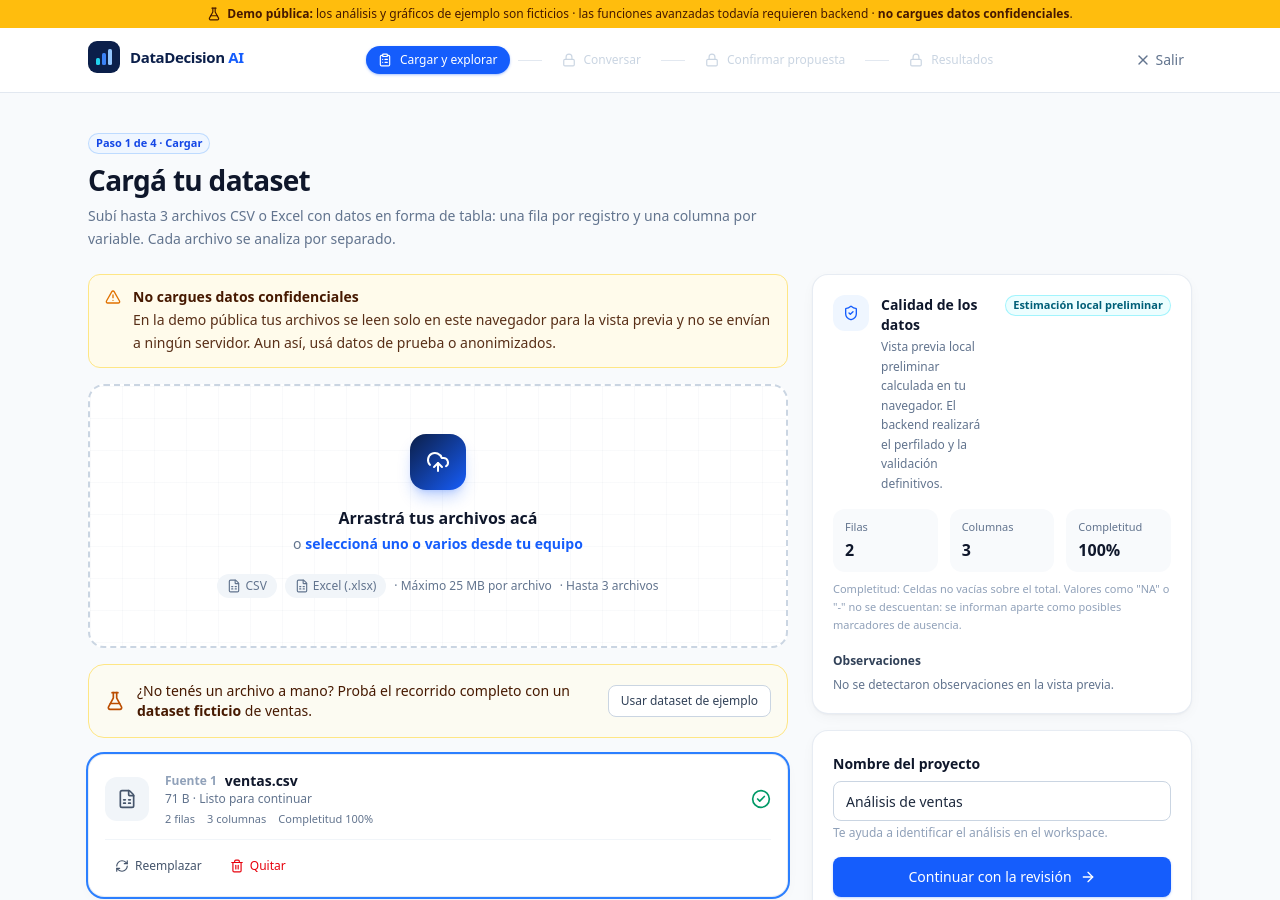
Test: flujo simplificado: el objetivo se cuenta una sola vez › el asistente saluda con la estructura de los datos y el primer mensaje pasa a ser el objetivo
The image size is (1280, 900).
Earlier steps of the test are not shown.
Expected: the number of icons named "Archivo listo" is 1, 751,789 -> 771,809
Click the button "Continuar con la revisión" at x=1002, y=878, box 833,858 -> 1171,898
(page scrolled)
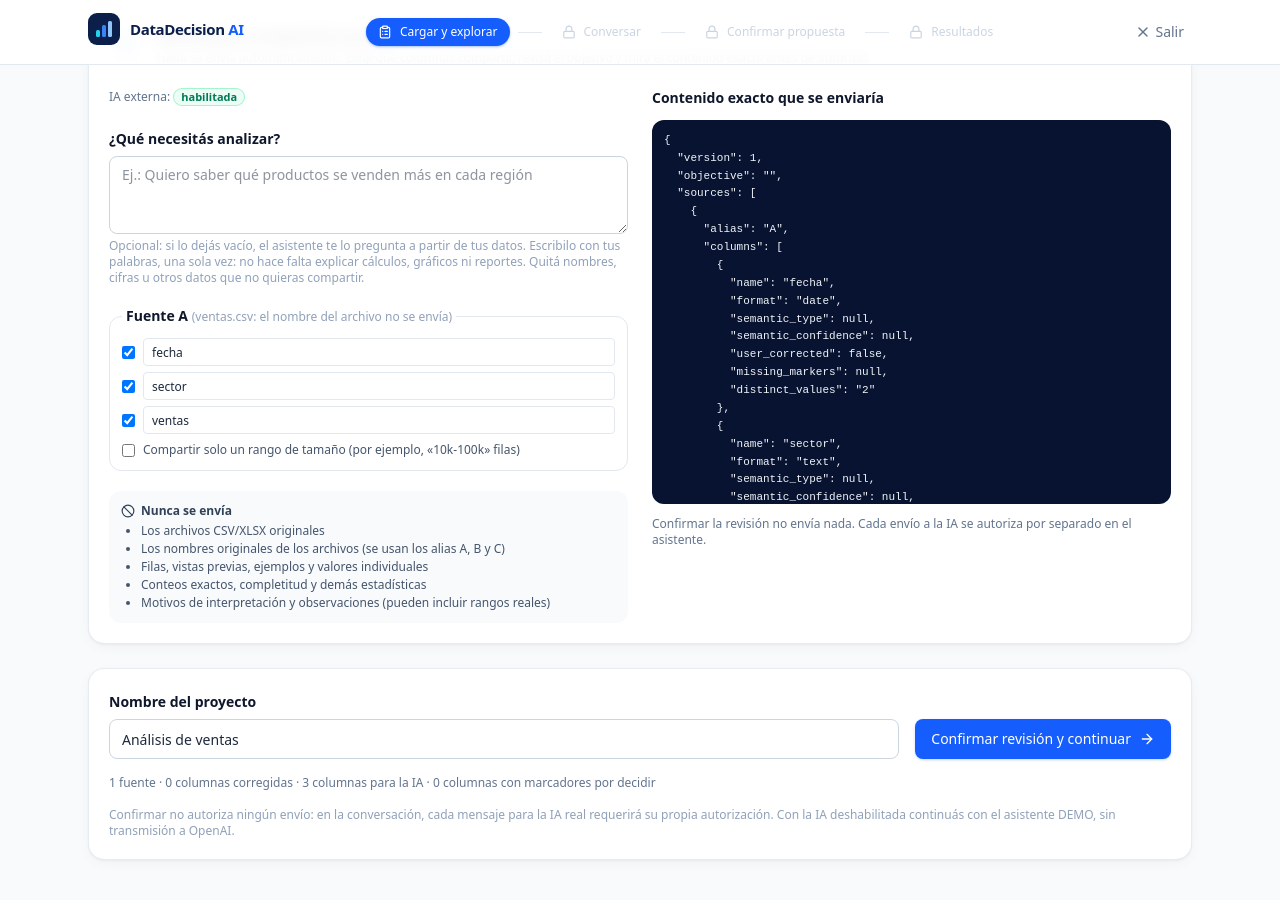
Click the button "Confirmar revisión y continuar" at x=1043, y=740, box 915,720 -> 1171,760
(page scrolled)
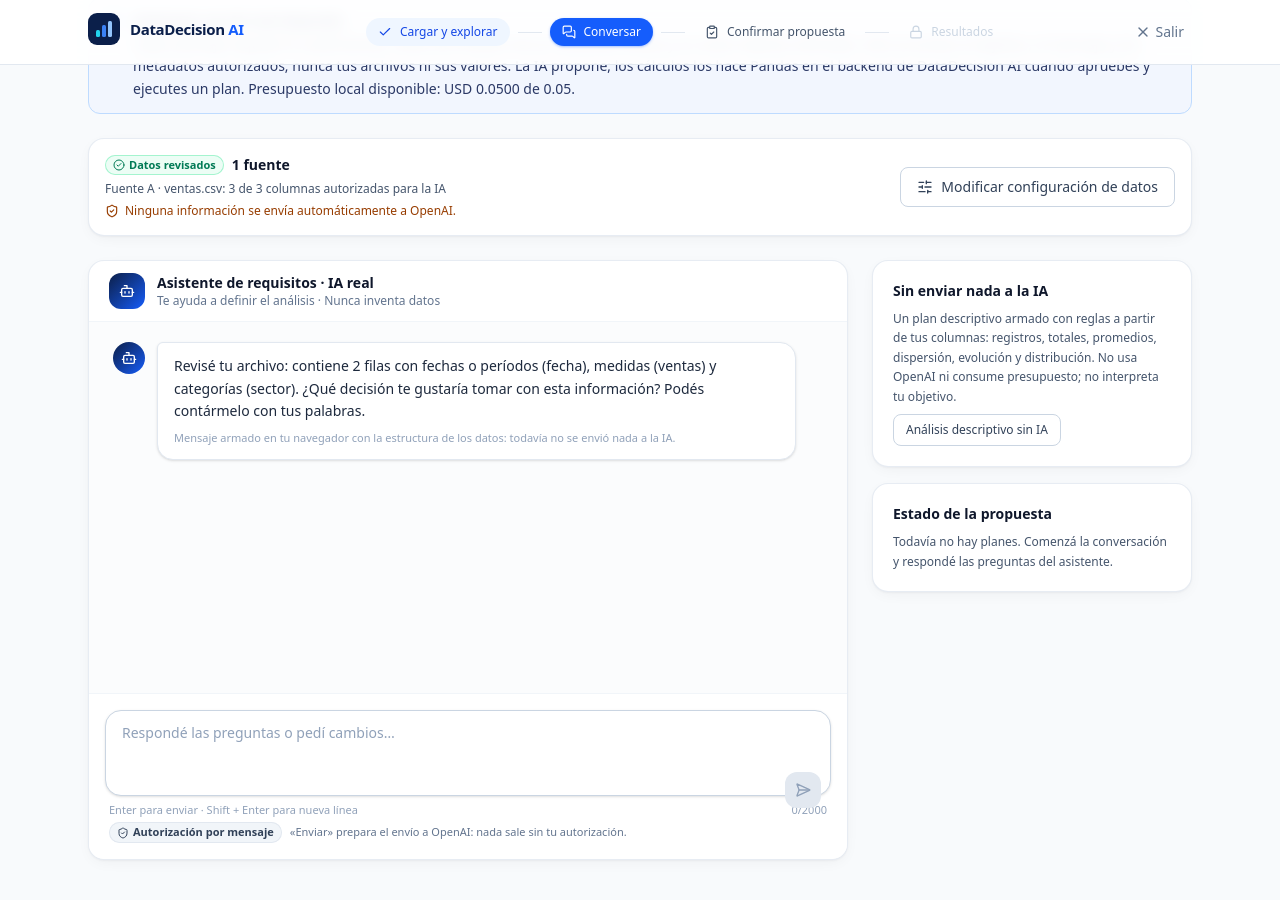
Result: the element named "Saludo del asistente" shows "Revisé tu archivo: contiene 2 filas con fechas o períodos (fecha)" at 174,356 -> 716,420
Result: the element named "Saludo del asistente" shows "¿Qué decisión te gustaría tomar con esta información?" at 174,356 -> 716,420
Result: the element named "Saludo del asistente" shows "todavía no se envió nada a la IA" at 174,430 -> 676,445
Type "Quiero saber qué sector conviene reforzar" into the text box named "Mensaje" at x=468, y=753, box 105,710 -> 831,796
Then press Enter
(page scrolled)
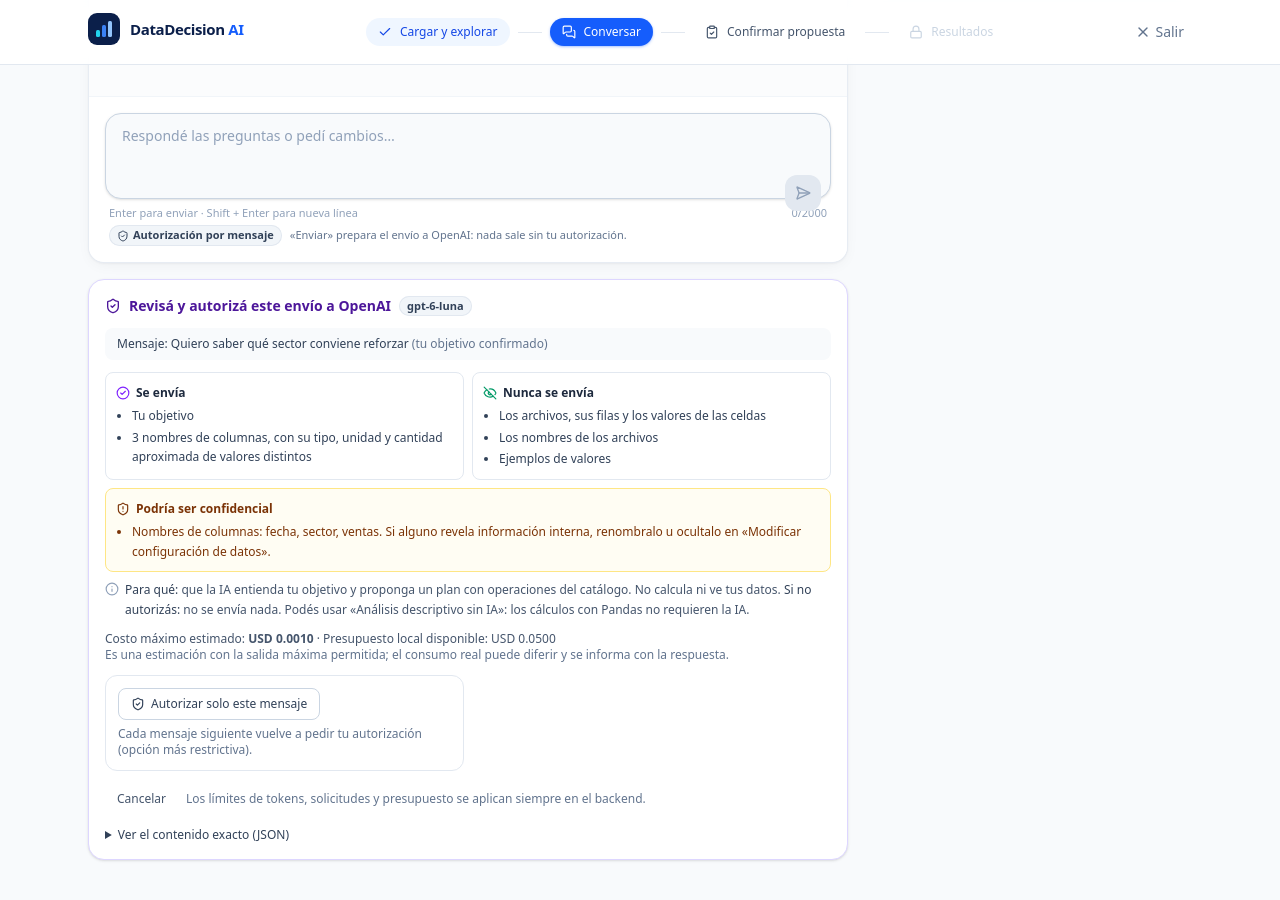
Result: the element named "Resumen del envío" shows "Nunca se envía" at 503,384 -> 594,401
Result: the element named "Resumen del envío" shows "Los archivos, sus filas y los valores de las celdas" at 499,407 -> 766,424
Result: the element named "Resumen del envío" shows "Nombres de columnas: fecha, sector, ventas" at 132,523 -> 801,560
Click the button "Autorizar solo este mensaje" at x=219, y=704, box 118,688 -> 320,720
(page scrolled)
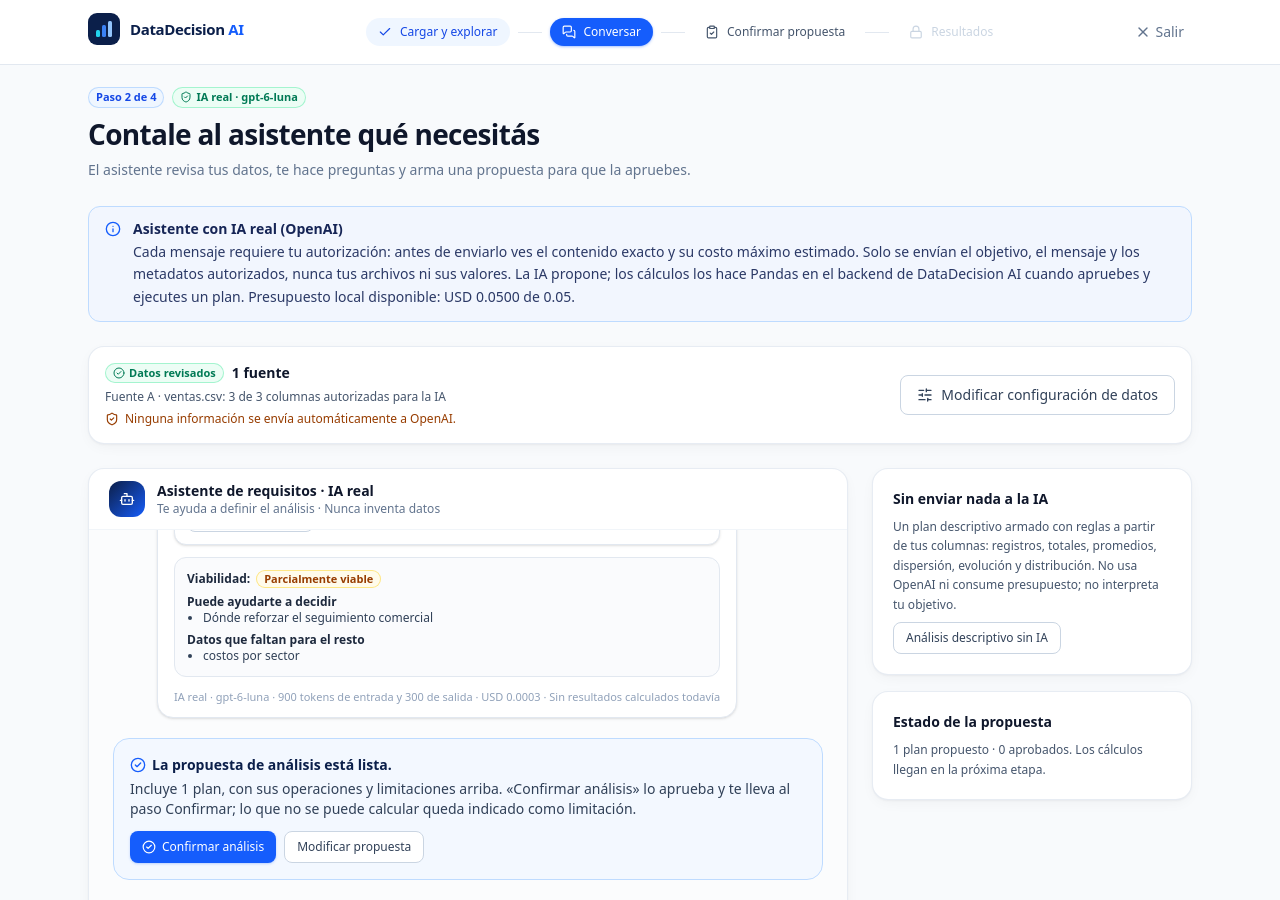
Result: the element named "Viabilidad del análisis" shows "Parcialmente viable" at 264,571 -> 373,586
Result: the element named "Viabilidad del análisis" shows "Dónde reforzar el seguimiento comercial" at 203,609 -> 433,626
Result: the element named "Viabilidad del análisis" shows "costos por sector" at 203,647 -> 300,664
